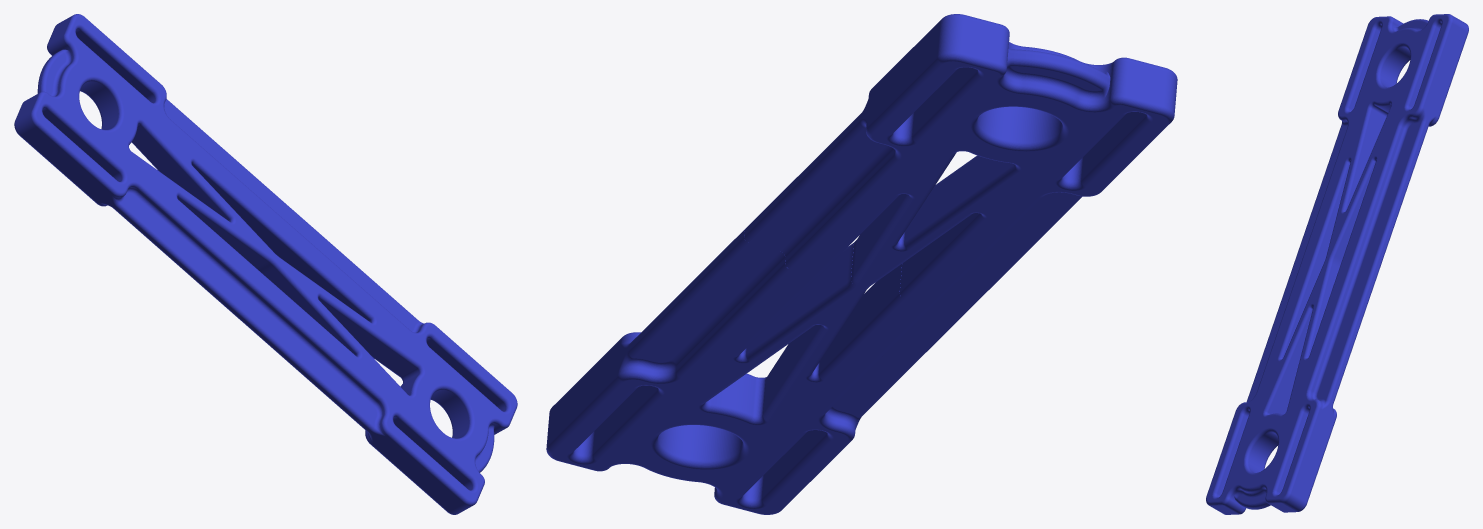
The model's file is q50brack.glb.
The picture shows the model from 3 angles, left to right: view 1: azimuth 30°, elevation 25°; view 2: azimuth 150°, elevation 25°; view 3: azimuth 270°, elevation 25°; orthographic projection. The views are drawn at different scales.
Bounding box in the file's own units: 0.1261 × 0.1266 × 0.0763.
